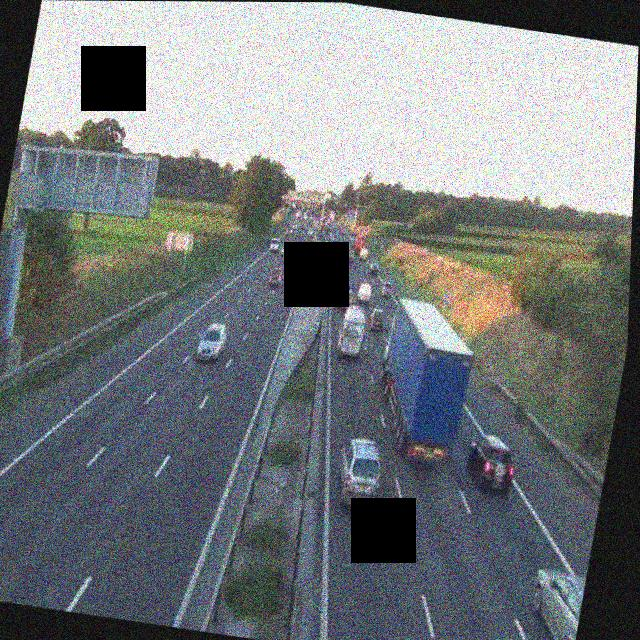car: (521, 566, 587, 640), (332, 436, 388, 509), (462, 431, 521, 493), (196, 320, 229, 363), (368, 308, 388, 333), (357, 280, 376, 304), (337, 288, 355, 313), (267, 267, 283, 288), (381, 281, 395, 298), (281, 242, 294, 257), (369, 262, 381, 277), (270, 237, 281, 252), (334, 253, 345, 266), (300, 236, 311, 249), (328, 235, 336, 246), (306, 226, 314, 237)
truck: (368, 298, 482, 468), (335, 303, 370, 358), (354, 235, 368, 259)
